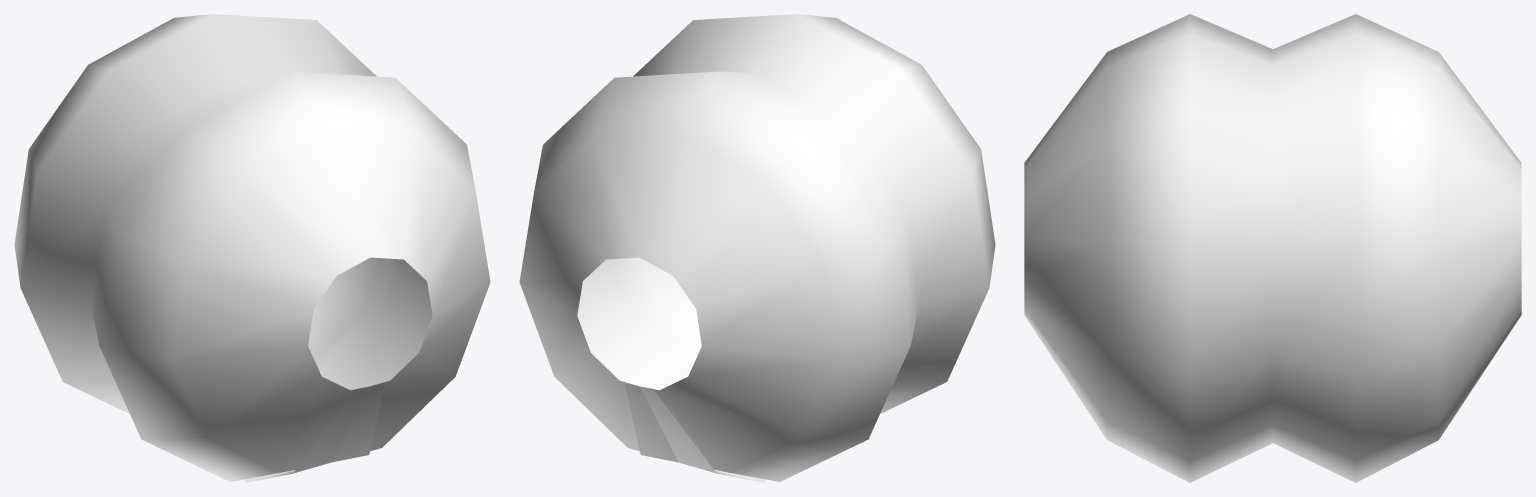
Rendered from jian.FBX.
3 renders of one model, left to right at view 1: azimuth 30°, elevation 25°; view 2: azimuth 150°, elevation 25°; view 3: azimuth 270°, elevation 25°, orthographic. The views are drawn at different scales.
Visible parts, largest first — view 1: jian; view 2: jian; view 3: jian.
Boxes of the visible parts, x1=… form: jian: x1=14, y1=14, x2=490, y2=482; jian: x1=519, y1=14, x2=995, y2=482; jian: x1=1024, y1=14, x2=1521, y2=482.
Bounding box in the file's own units: 21.07 × 22.35 × 20.92.
